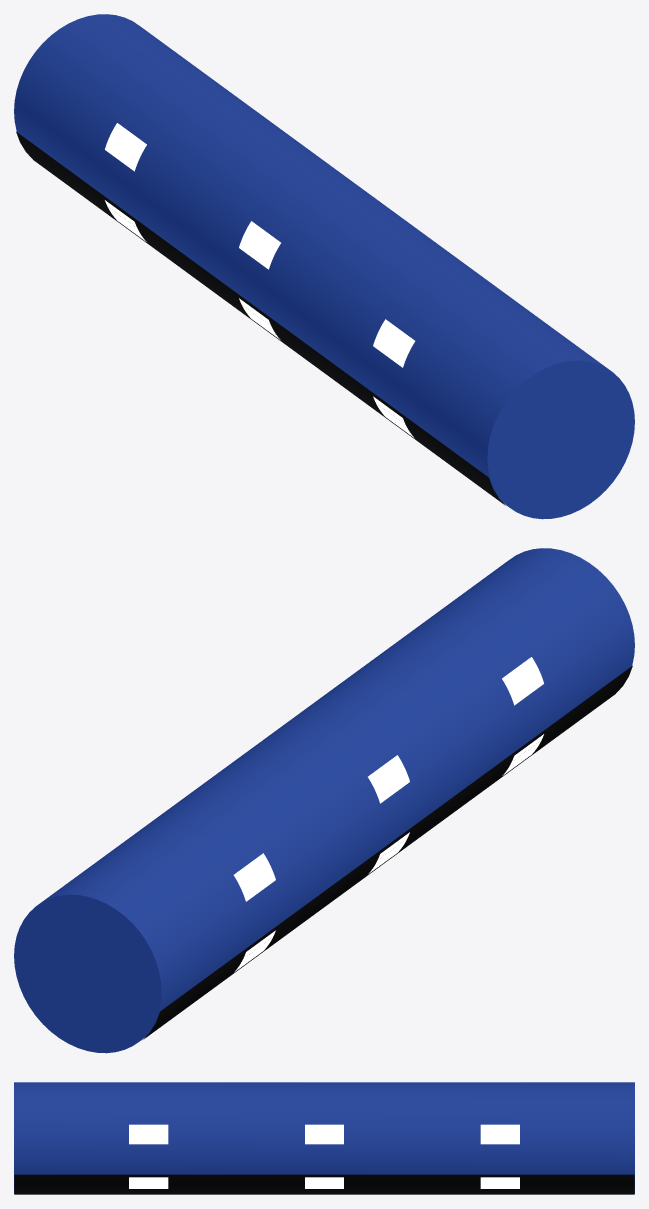
The model's file is whitted.gltf.
The picture shows the model from 3 angles, top to bottom: view 1: azimuth 30°, elevation 25°; view 2: azimuth 150°, elevation 25°; view 3: azimuth 270°, elevation 25°; orthographic projection. The views are drawn at different scales.
Parts seen in each view (by area): view 1: hull, tail, underside, window-9, window-7, window-8; view 2: hull, nose, underside, window-7, window-9, window-8; view 3: hull, underside, window-1, window-3, window-2, window-4, window-6, window-5.
Boxes of the visible parts, <box> form: hull: <box>14,14,610,506</box>; tail: <box>487,360,634,519</box>; underside: <box>16,131,505,505</box>; window-9: <box>373,319,415,367</box>; window-7: <box>105,123,146,171</box>; window-8: <box>239,221,280,269</box>; hull: <box>38,548,634,1040</box>; nose: <box>14,894,161,1053</box>; underside: <box>143,665,632,1039</box>; window-7: <box>233,853,275,901</box>; window-9: <box>502,657,543,705</box>; window-8: <box>368,755,409,803</box>; hull: <box>14,1082,634,1193</box>; underside: <box>14,1174,634,1194</box>; window-1: <box>480,1124,519,1144</box>; window-3: <box>129,1124,168,1144</box>; window-2: <box>305,1124,343,1144</box>; window-4: <box>480,1177,519,1188</box>; window-6: <box>129,1177,168,1188</box>; window-5: <box>305,1177,343,1188</box>.
Size of the model in its own units: 5.4 by 5.43 by 30.
